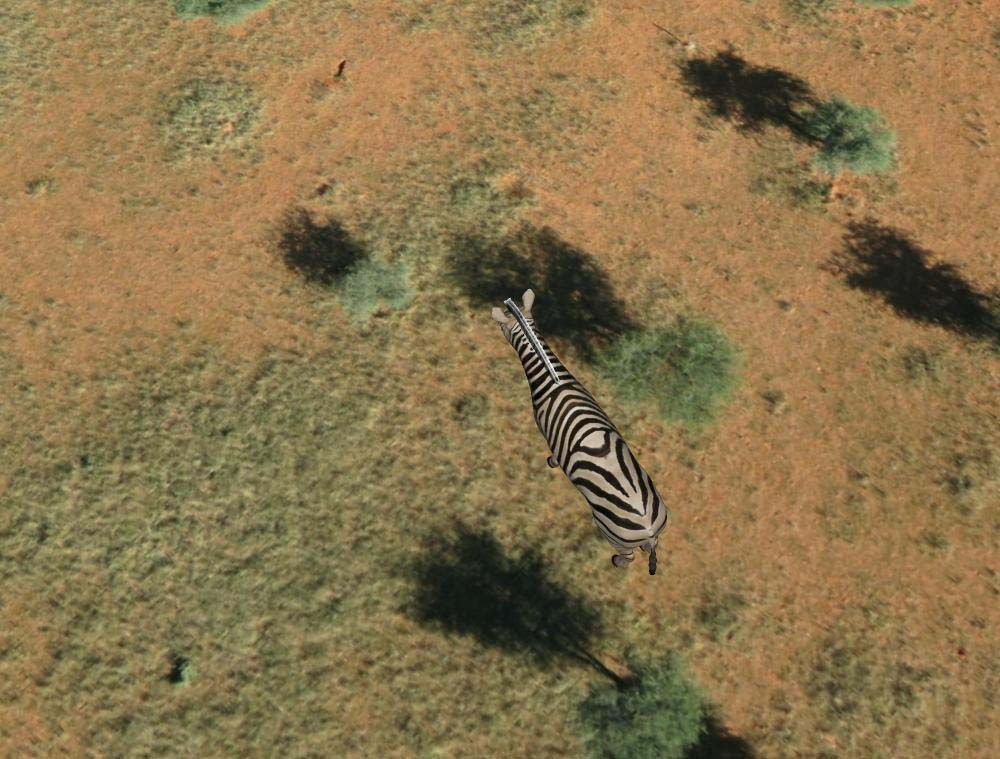zebra: (488, 288, 675, 580)
